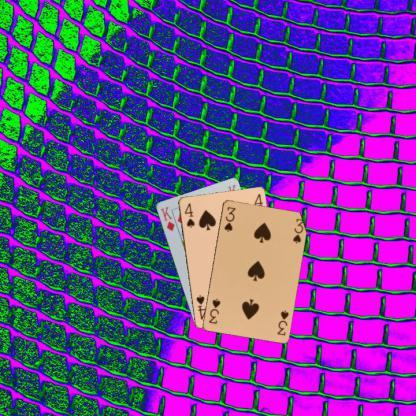3s: (274, 308, 290, 336), (222, 204, 236, 233)
4s: (182, 200, 196, 229)
Kd: (158, 204, 176, 233)
